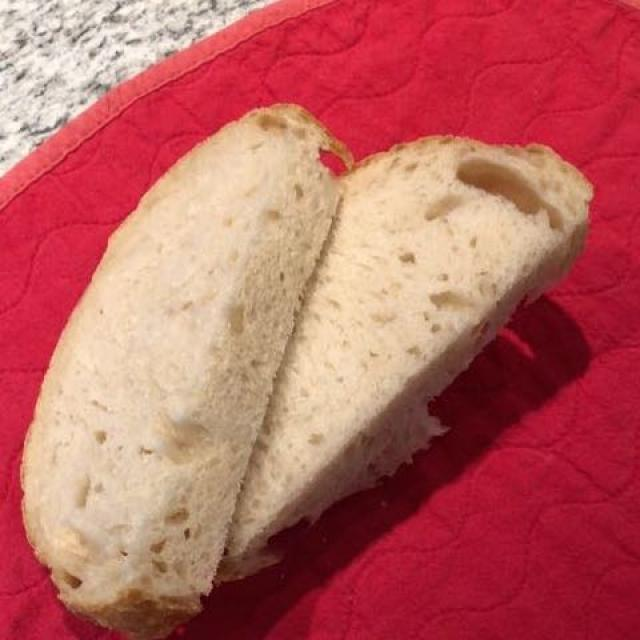bread: (26, 111, 585, 614)
